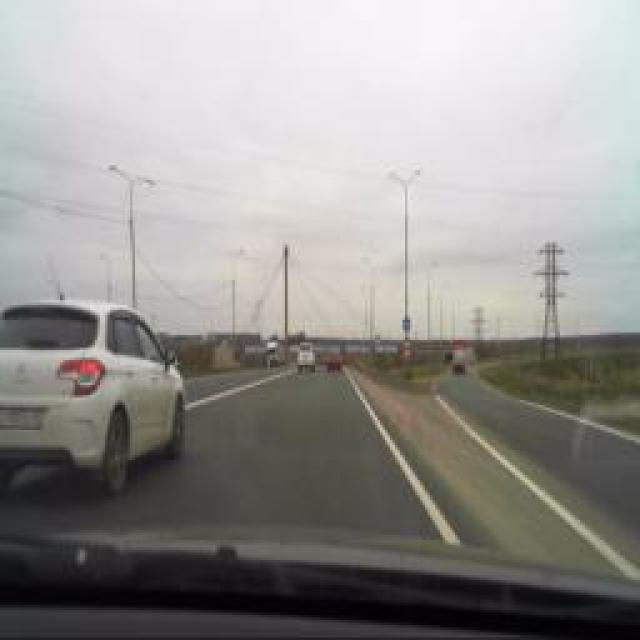sign: (401, 315, 411, 333)
